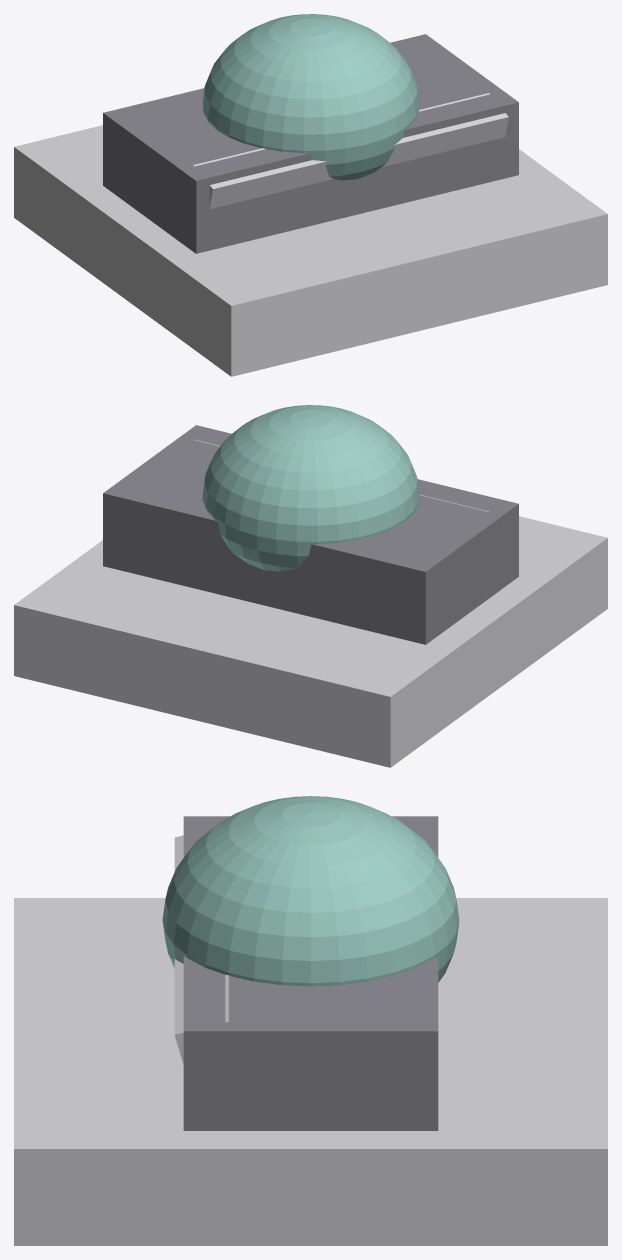
File: third_platform_national_assembly.glb
3 views of the same model, one above another, from view 1: azimuth 30°, elevation 25°; view 2: azimuth 150°, elevation 25°; view 3: azimuth 270°, elevation 25° (orthographic). The views are drawn at different scales.
Visible parts, largest first — view 1: Cube, Cube.001, Sphere, Cube.002; view 2: Cube, Cube.001, Sphere; view 3: Cube, Sphere, Cube.001, Cube.002.
Boxes of the visible parts, left/top/right/bottom form: Cube: left=14, top=125, right=607, bottom=376; Cube.001: left=103, top=34, right=518, bottom=253; Sphere: left=202, top=14, right=419, bottom=180; Cube.002: left=193, top=93, right=508, bottom=208; Cube: left=14, top=516, right=607, bottom=767; Cube.001: left=103, top=425, right=518, bottom=644; Sphere: left=202, top=405, right=419, bottom=571; Cube: left=14, top=898, right=607, bottom=1245; Sphere: left=162, top=796, right=459, bottom=986; Cube.001: left=183, top=816, right=438, bottom=1130; Cube.002: left=174, top=835, right=228, bottom=1064.
Bounding box in the file's own units: 3.2 × 1.83 × 3.2.
